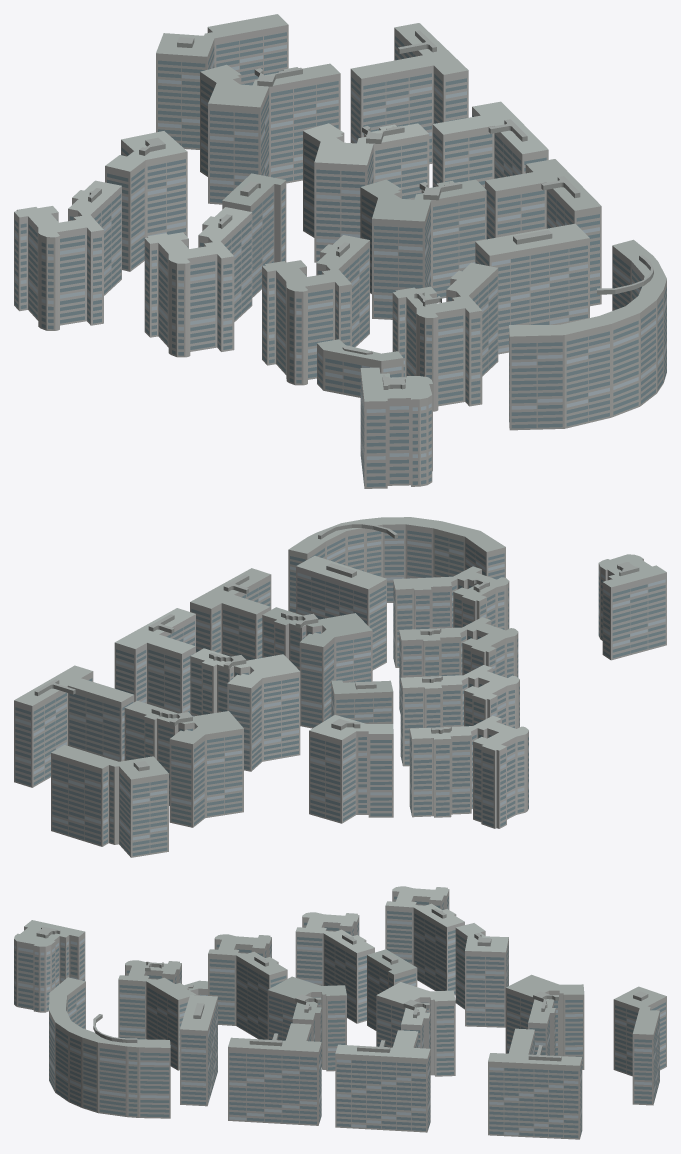
The model's file is apt-a15721007.glb.
3 renders of one model, top to bottom at view 1: azimuth 30°, elevation 25°; view 2: azimuth 150°, elevation 25°; view 3: azimuth 270°, elevation 25°, orthographic. The views are drawn at different scales.
Visible parts, largest first — view 1: apt-a15721007; view 2: apt-a15721007; view 3: apt-a15721007.
Boxes of the visible parts, box(x1,y1,x2,y2) form: apt-a15721007: box(14, 14, 666, 488); apt-a15721007: box(14, 517, 666, 857); apt-a15721007: box(14, 886, 666, 1139).
Size of the model in its own units: 233 by 47 by 352.
